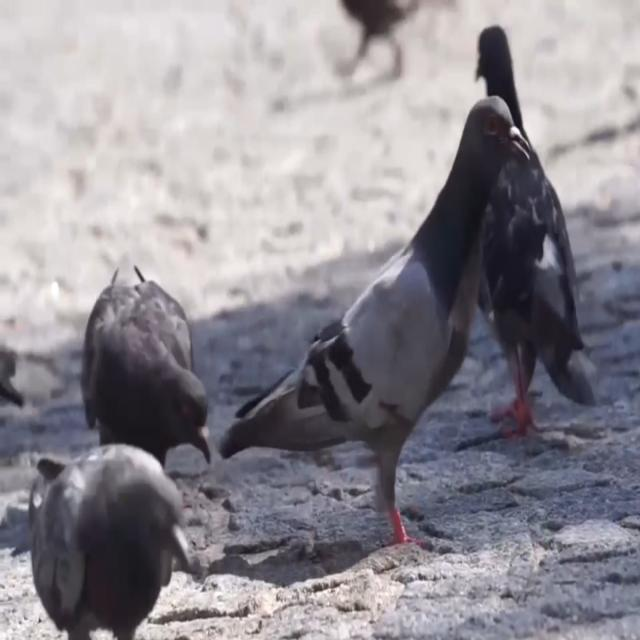bird: (216, 66, 540, 558), (461, 11, 620, 458), (71, 250, 234, 502), (312, 0, 430, 118), (0, 306, 29, 453)
